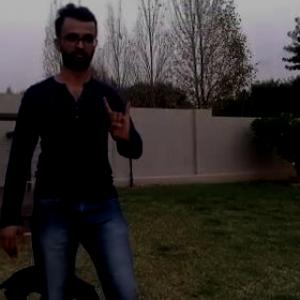takeoff-hand: (101, 87, 138, 148)
